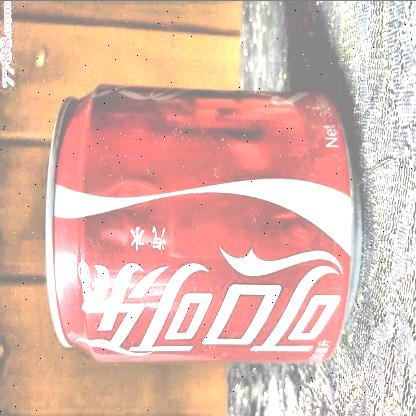Can: (46, 84, 370, 368)
